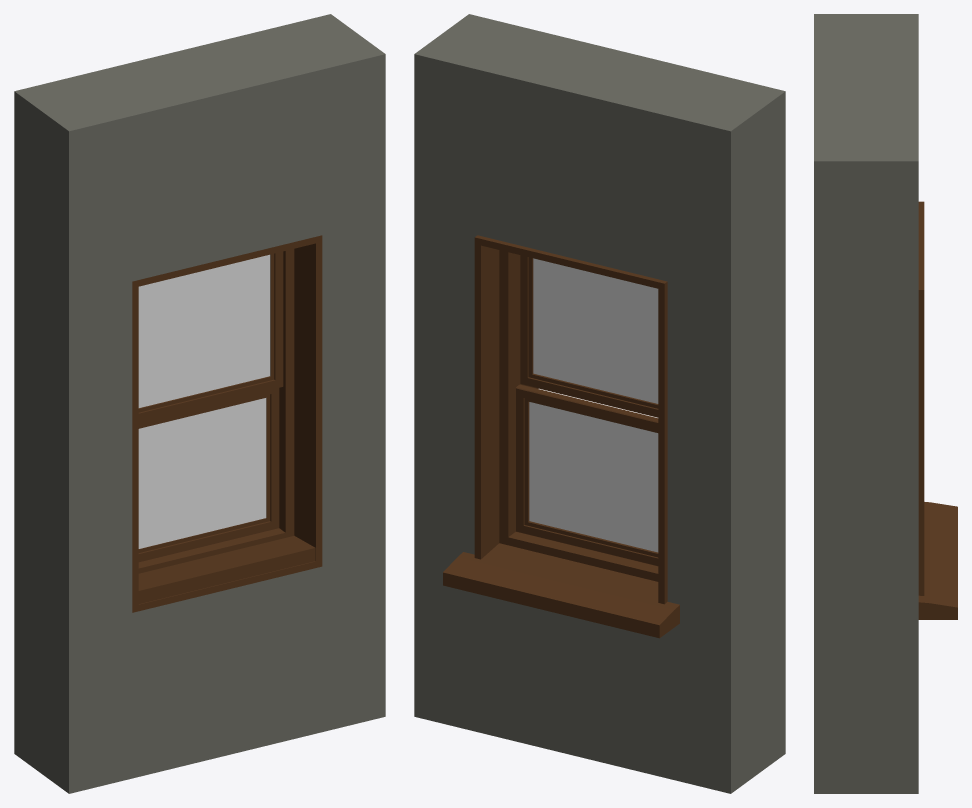
File: Single Window.fbx
3 views of the same model, side by side, from view 1: azimuth 30°, elevation 25°; view 2: azimuth 150°, elevation 25°; view 3: azimuth 270°, elevation 25° (orthographic). The views are drawn at different scales.
Visible parts, largest first — view 1: Cube.006; view 2: Cube.006; view 3: Cube.006.
Part boxes in pixels (x1,y1,x2,y2): Cube.006: (14,14,385,793); Cube.006: (414,14,785,793); Cube.006: (814,14,957,793).
Bounding box in the file's own units: 200 × 400 × 82.44.
